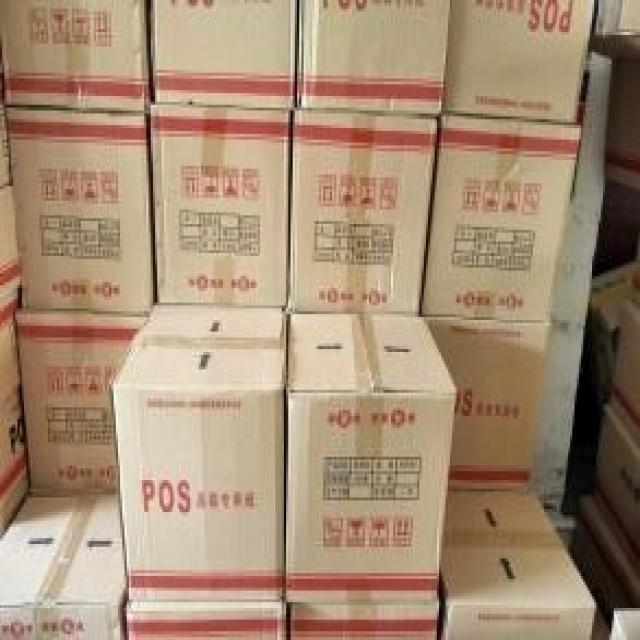Carton: (284, 3, 592, 602), (151, 0, 293, 300), (295, 0, 446, 108)
